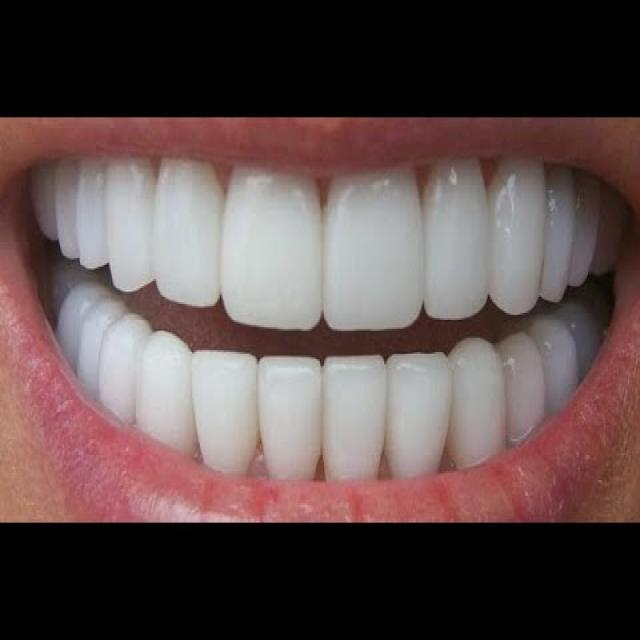tooth: (238, 172, 322, 316), (344, 180, 419, 338), (159, 146, 221, 306), (441, 338, 507, 458), (438, 149, 486, 311), (390, 350, 446, 475), (325, 361, 384, 478), (496, 155, 539, 302), (188, 356, 248, 448), (269, 363, 319, 473), (488, 339, 540, 434), (105, 164, 147, 278), (107, 316, 145, 426), (151, 327, 189, 432), (80, 301, 116, 398), (540, 318, 577, 407), (76, 164, 105, 254), (551, 174, 569, 299), (569, 187, 591, 286), (59, 170, 80, 243)
